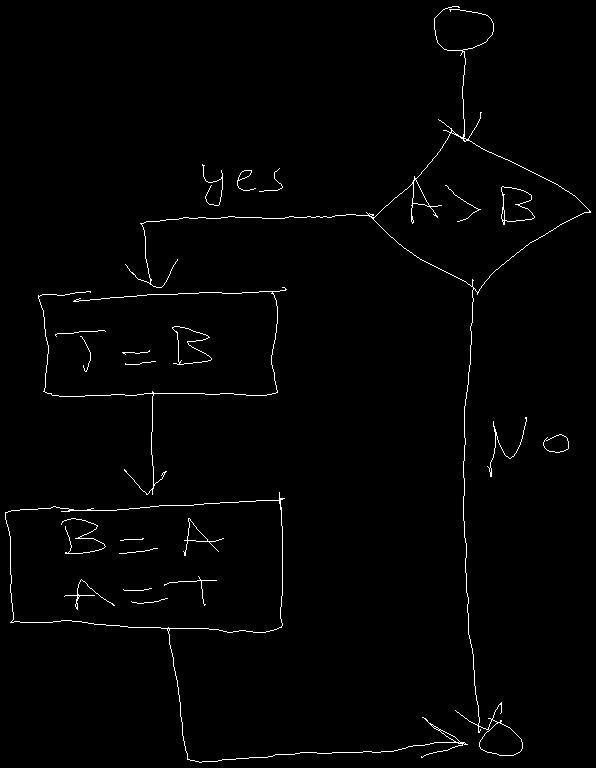arrow: (167, 627, 467, 762), (455, 279, 501, 732), (125, 213, 373, 287), (124, 391, 166, 494), (438, 51, 481, 141)
connection: (434, 6, 493, 50), (479, 718, 522, 755)
decision: (366, 128, 590, 294)
process: (5, 492, 284, 632), (38, 287, 286, 396)
text: (61, 518, 223, 609), (55, 326, 211, 371), (411, 176, 534, 224), (487, 417, 568, 476), (202, 164, 282, 205)
